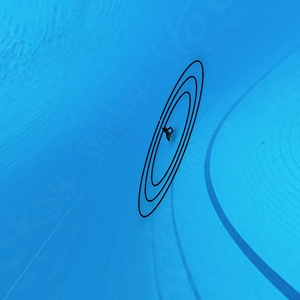circle: (138, 58, 206, 220)
submarine: (163, 126, 174, 139)
